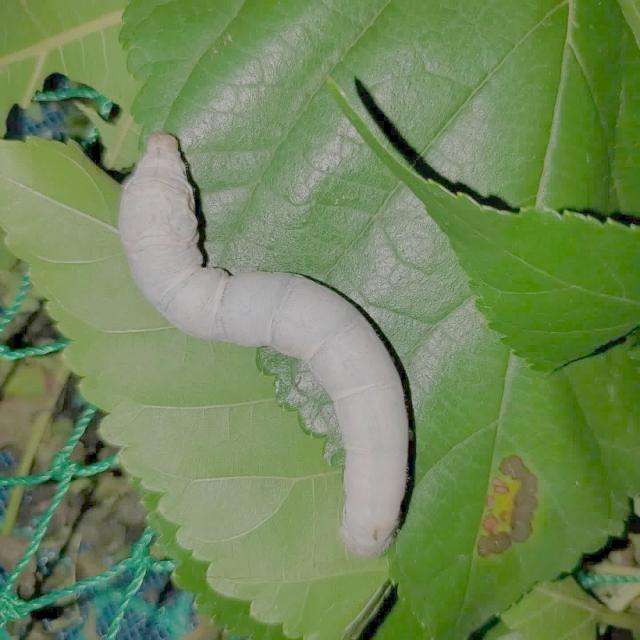Healthy: (107, 122, 421, 564)
